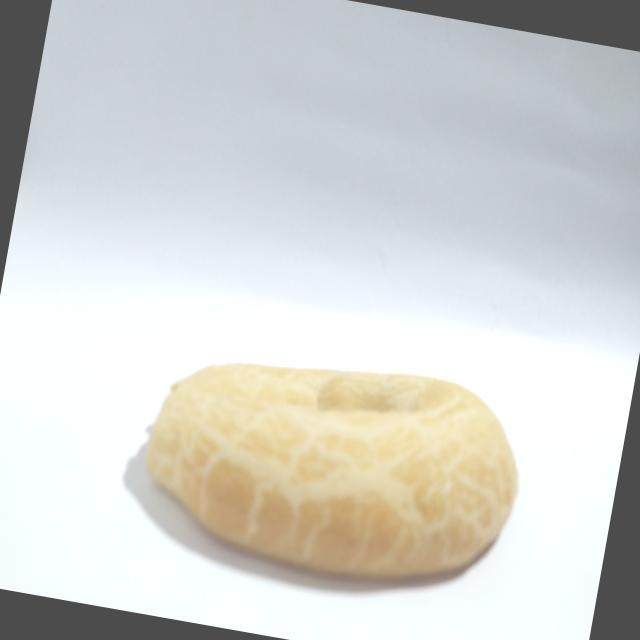Chipa: (114, 307, 550, 624)
